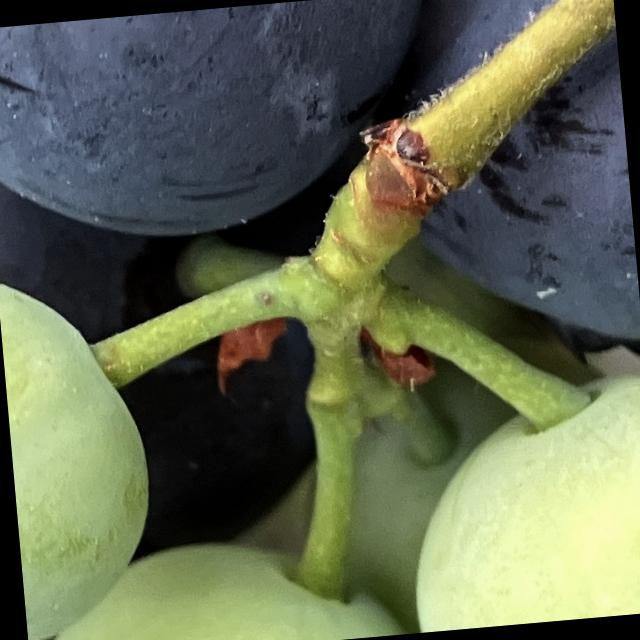Blueberries: (0, 242, 187, 640)
